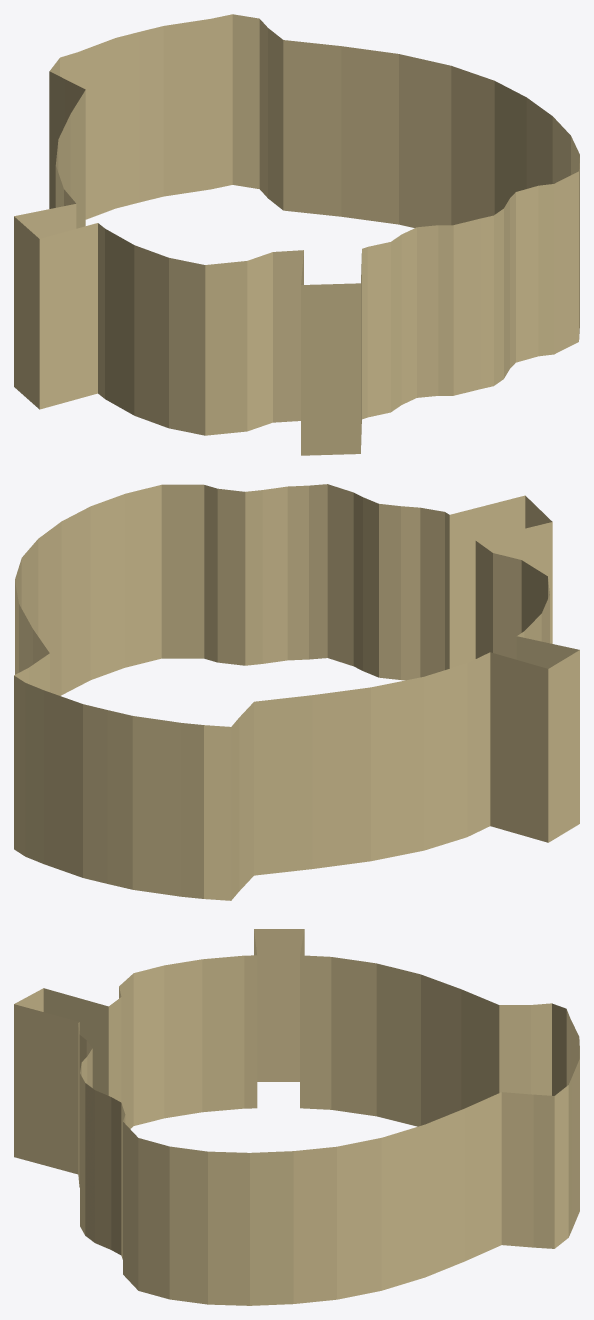
The model's file is colission.fbx.
3 renders of one model, top to bottom at view 1: azimuth 30°, elevation 25°; view 2: azimuth 150°, elevation 25°; view 3: azimuth 270°, elevation 25°, orthographic. The views are drawn at different scales.
Parts seen in each view (by area): view 1: TerrenoIslaTropical; view 2: TerrenoIslaTropical; view 3: TerrenoIslaTropical.
Boxes of the visible parts, x1=… form: TerrenoIslaTropical: x1=14, y1=14, x2=579, y2=455; TerrenoIslaTropical: x1=14, y1=484, x2=579, y2=900; TerrenoIslaTropical: x1=14, y1=929, x2=579, y2=1305.
Bounding box in the file's own units: 7756 × 2614 × 8300.
Materials: 1 (1 with a texture image).
